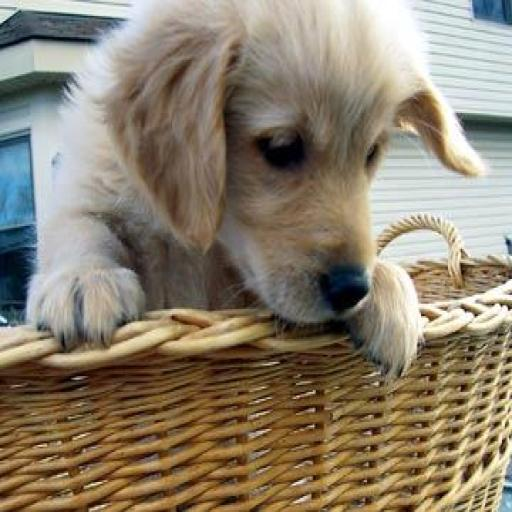dog_face: (98, 5, 468, 338)
